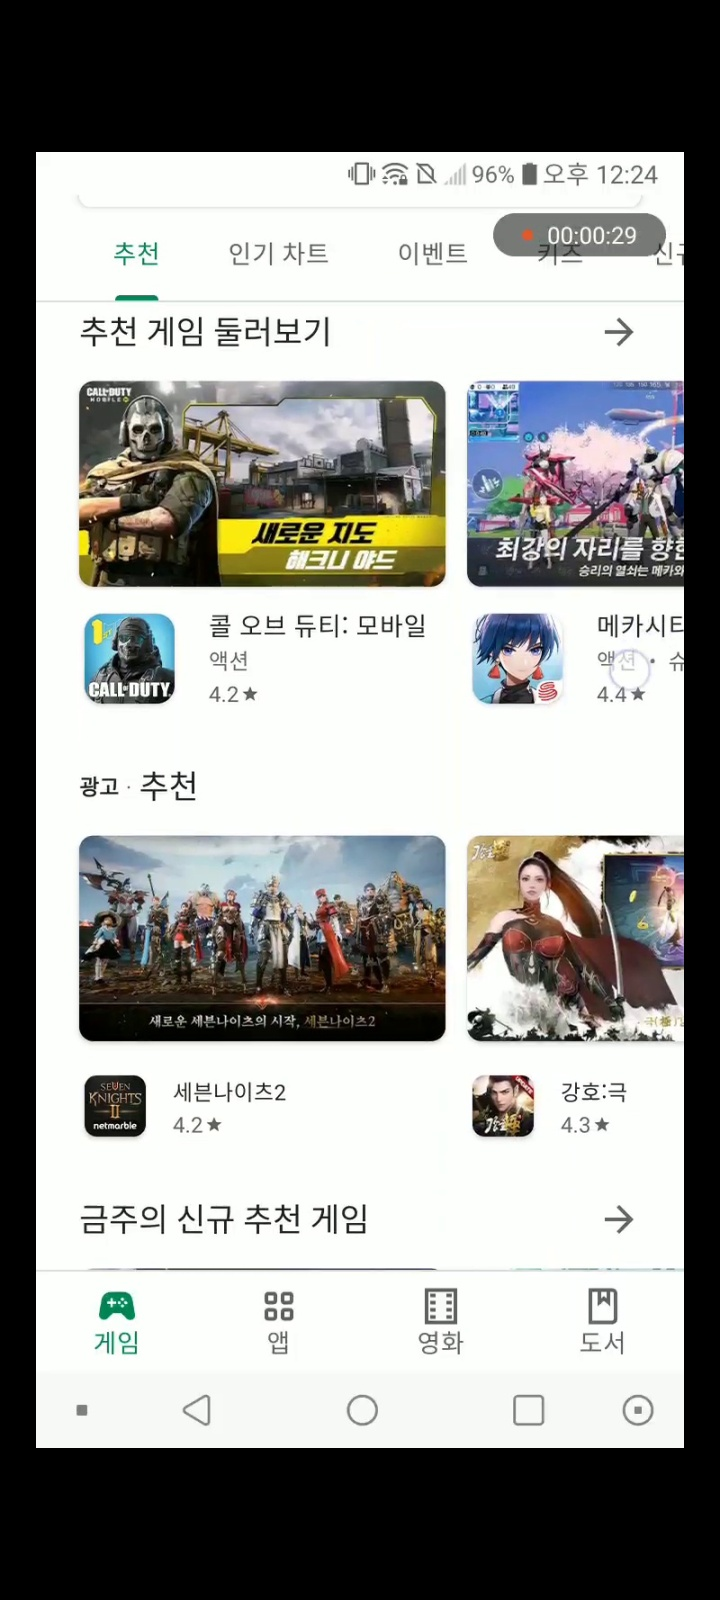Cursor: (609, 647, 654, 692)
